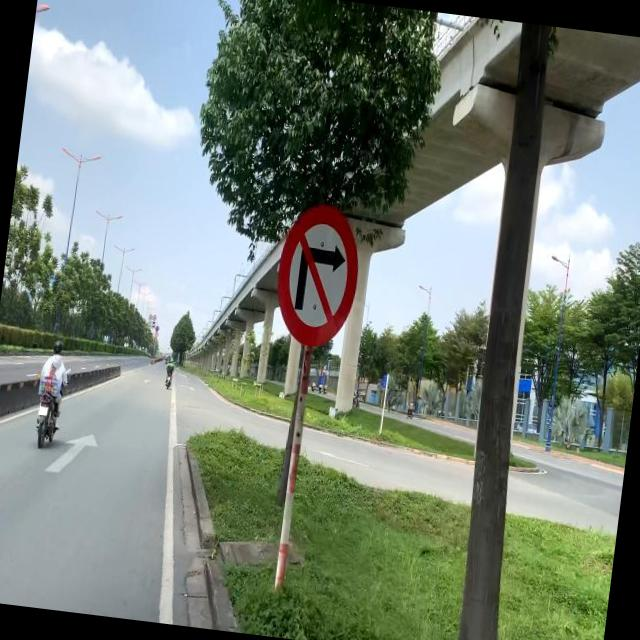P-123b: (268, 198, 367, 351)
